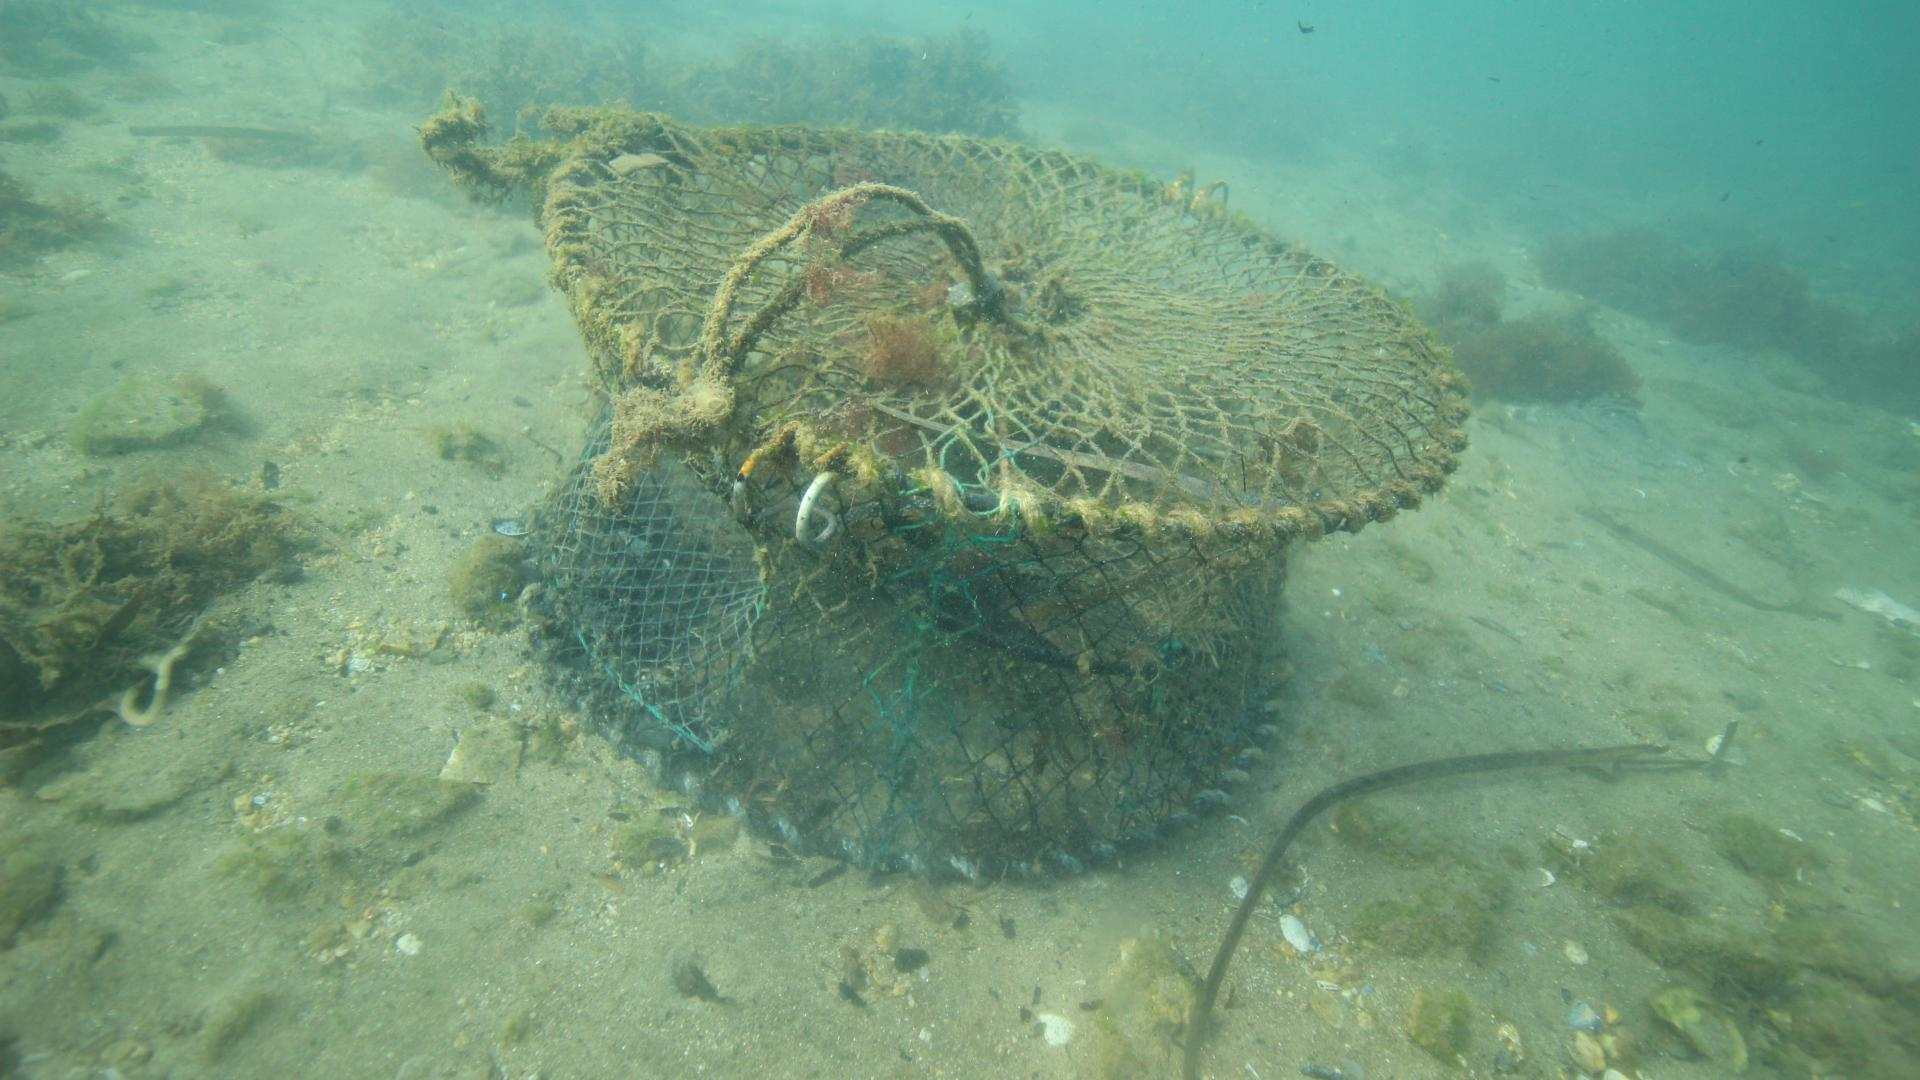circular fish trap: (516, 107, 1473, 886)
